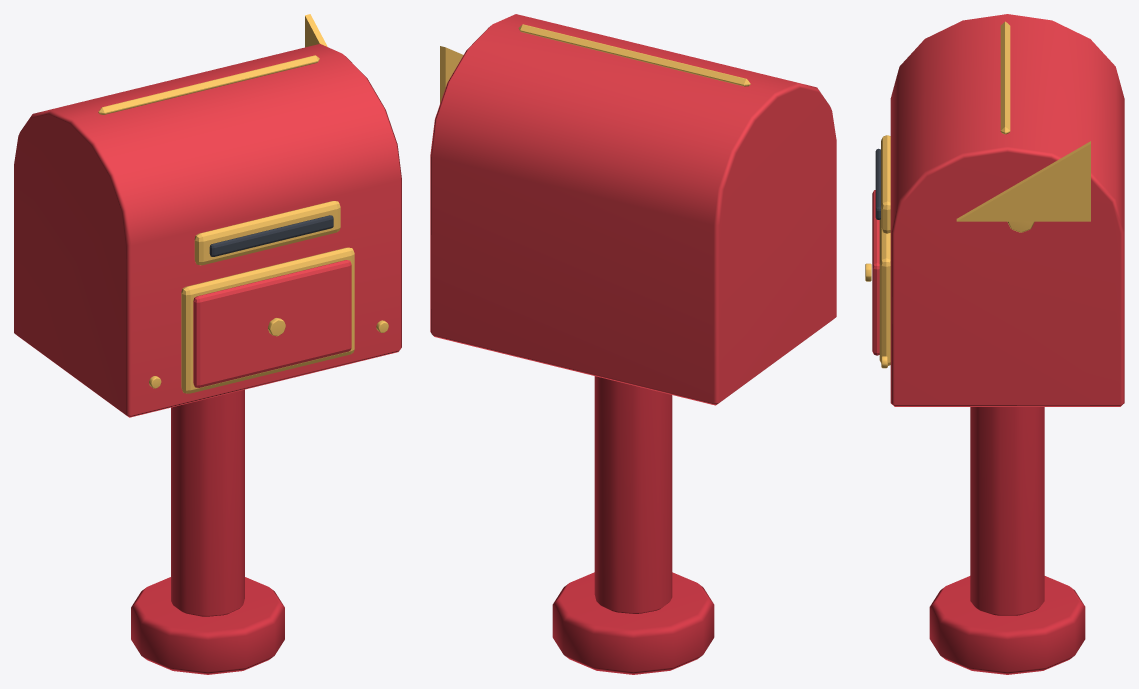
File: asset.glb
3 renders of one model, left to right at view 1: azimuth 30°, elevation 25°; view 2: azimuth 150°, elevation 25°; view 3: azimuth 270°, elevation 25°, orthographic. The views are drawn at different scales.
Parts seen in each view (by area): view 1: Rounded arched mailbox body, Single support post, Front access door, Rounded weighted foot, Door gold border, Slot golden surround, Roof seam, Dark mail slot; view 2: Rounded arched mailbox body, Single support post, Rounded weighted foot, Roof seam, Raised side mail flag; view 3: Rounded arched mailbox body, Single support post, Rounded weighted foot, Raised side mail flag, Door gold border, Roof seam, Front access door, Slot golden surround, Dark mail slot.
Boxes of the visible parts, x1,y1,x2,y2 form: Rounded arched mailbox body: (14, 44, 401, 417); Single support post: (171, 389, 244, 616); Front access door: (193, 260, 351, 387); Rounded weighted foot: (131, 577, 284, 674); Door gold border: (181, 247, 354, 393); Slot golden surround: (194, 201, 340, 265); Roof seam: (98, 55, 319, 114); Dark mail slot: (209, 215, 333, 256); Rounded arched mailbox body: (430, 14, 836, 405); Single support post: (594, 376, 672, 613); Rounded weighted foot: (552, 572, 714, 674); Roof seam: (518, 24, 750, 86); Raised side mail flag: (440, 46, 463, 103); Rounded arched mailbox body: (890, 14, 1124, 406); Single support post: (970, 407, 1044, 615); Rounded weighted foot: (929, 576, 1085, 674); Raised side mail flag: (956, 141, 1090, 221); Door gold border: (879, 219, 890, 365); Roof seam: (1000, 21, 1010, 134); Front access door: (872, 190, 879, 355); Slot golden surround: (881, 135, 890, 233); Dark mail slot: (875, 148, 880, 219).
Size of the model in its own units: 0.612 by 1.17 by 0.483.
